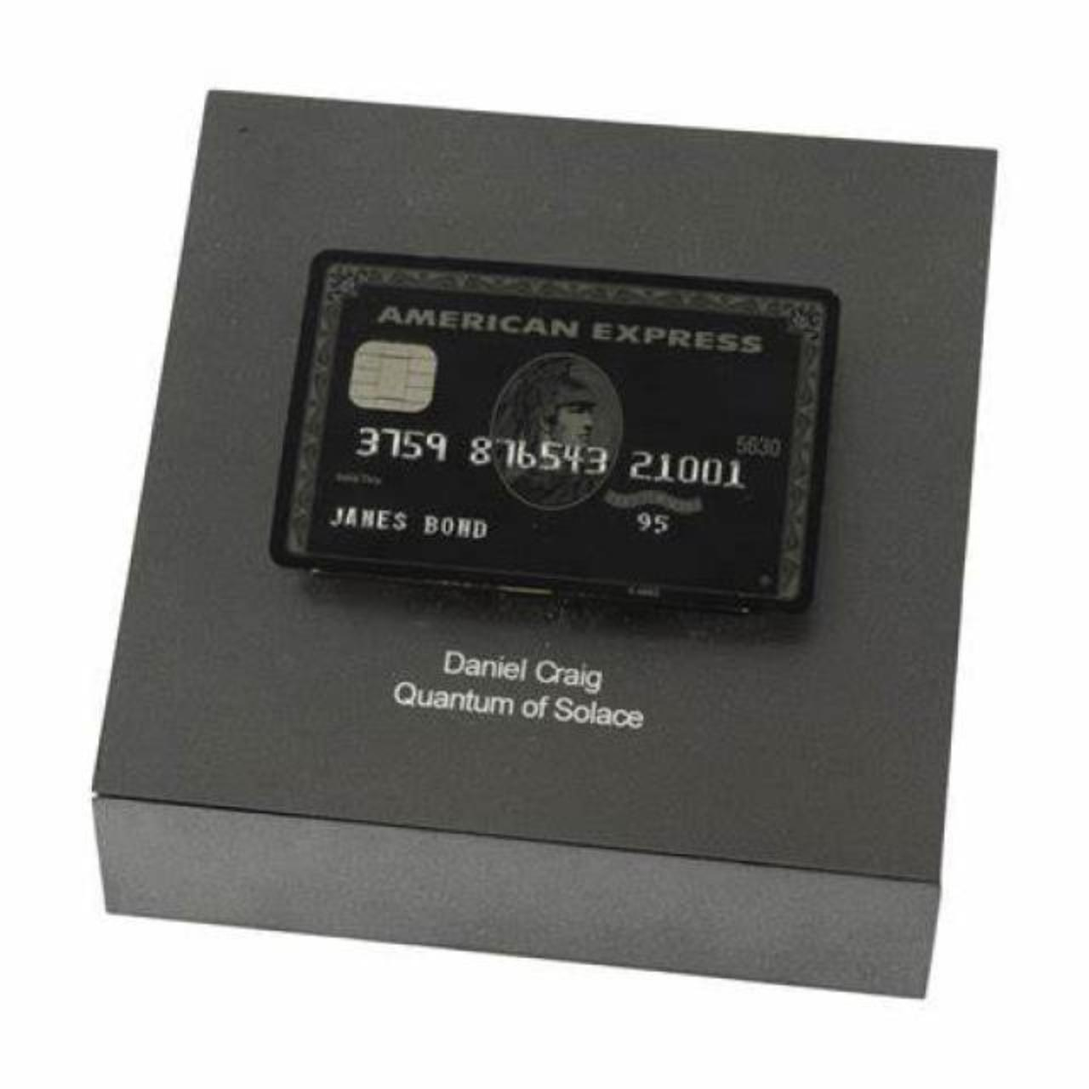credit_card: (262, 238, 858, 630)
